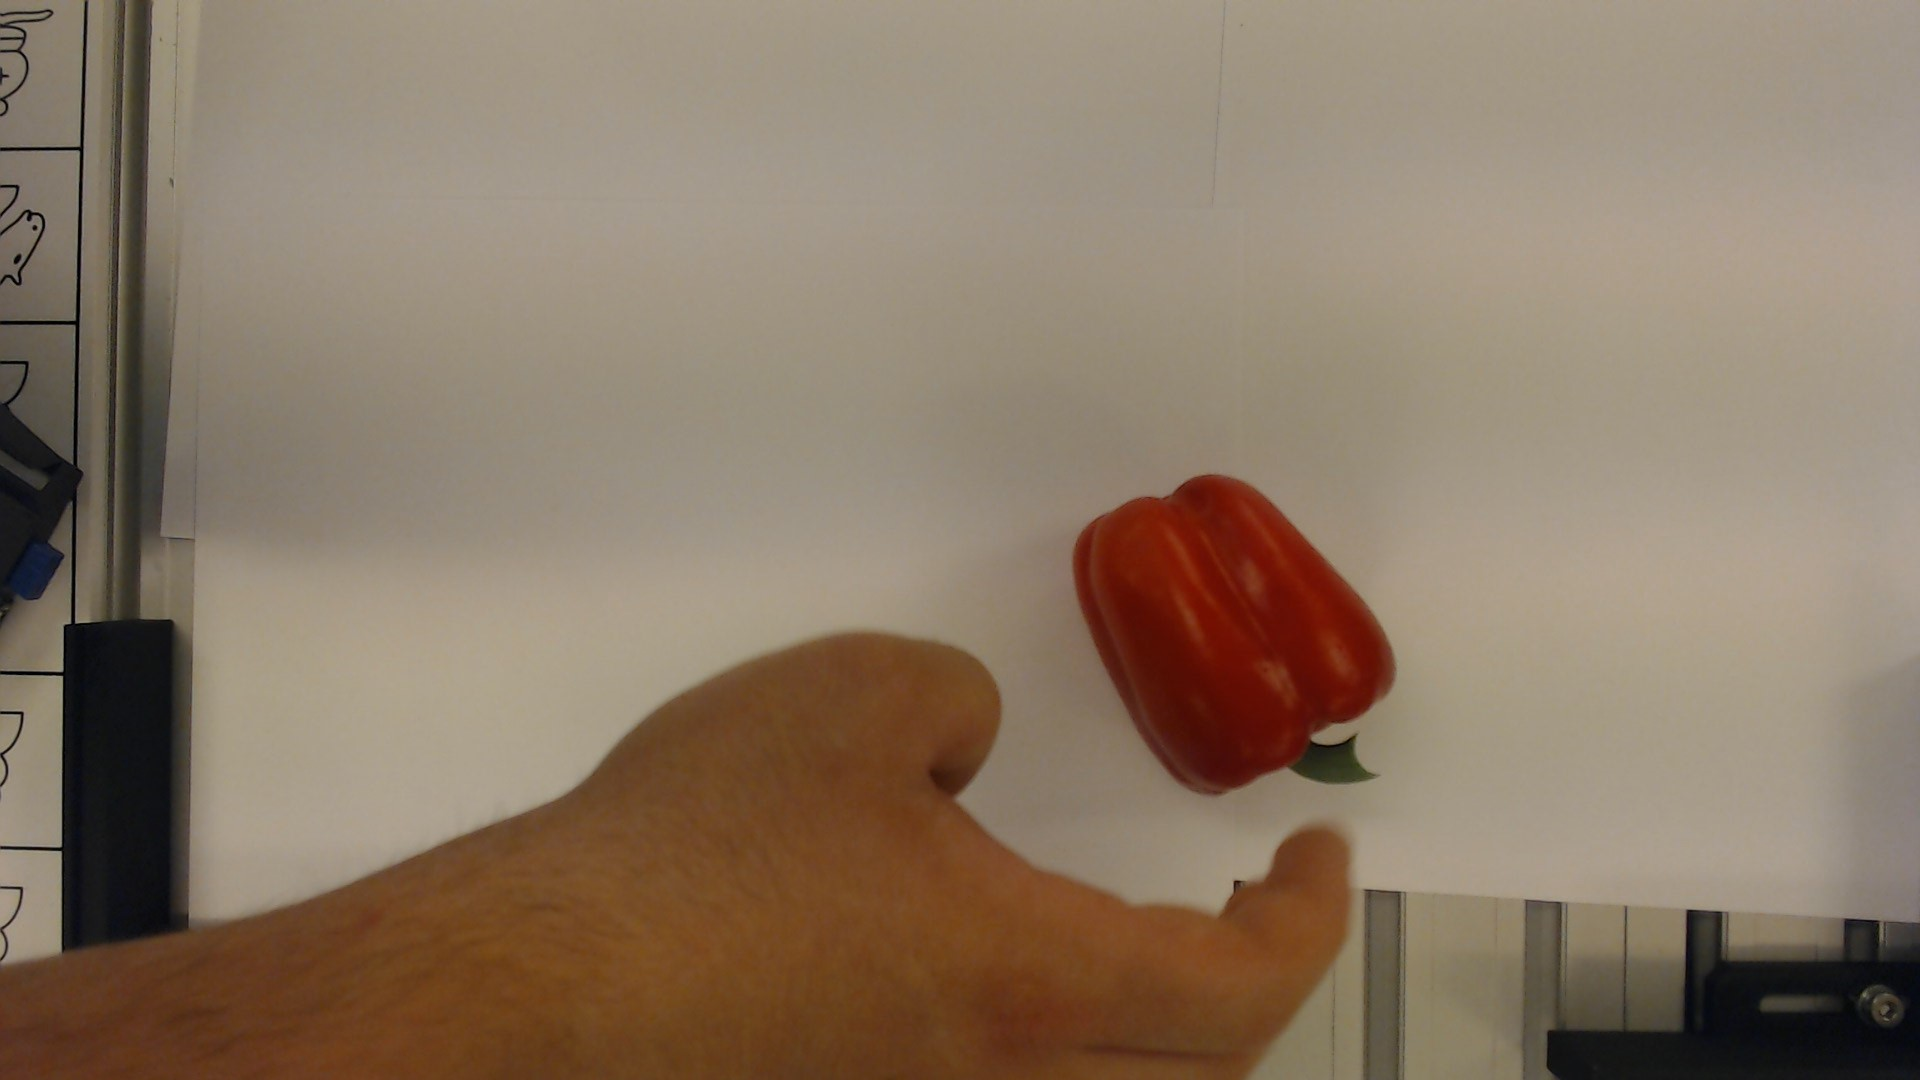Red Bell Pepper: (1056, 471, 1402, 804)
